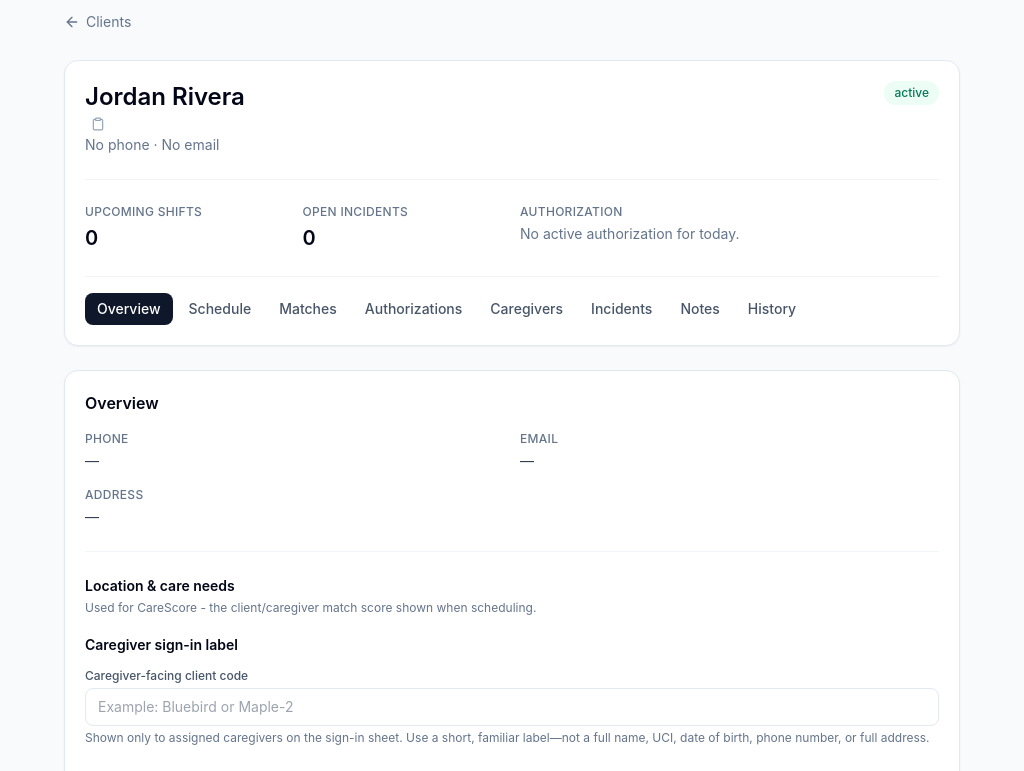
Test: ClientDetailPage › shows an error message on the Authorizations tab when the fetch fails, instead of a false empty state
Expected: the heading "Jordan Rivera" is shown, left=85, top=81, right=245, bottom=113
Click the button "Authorizations" at (414, 309), box left=353, top=293, right=474, bottom=325
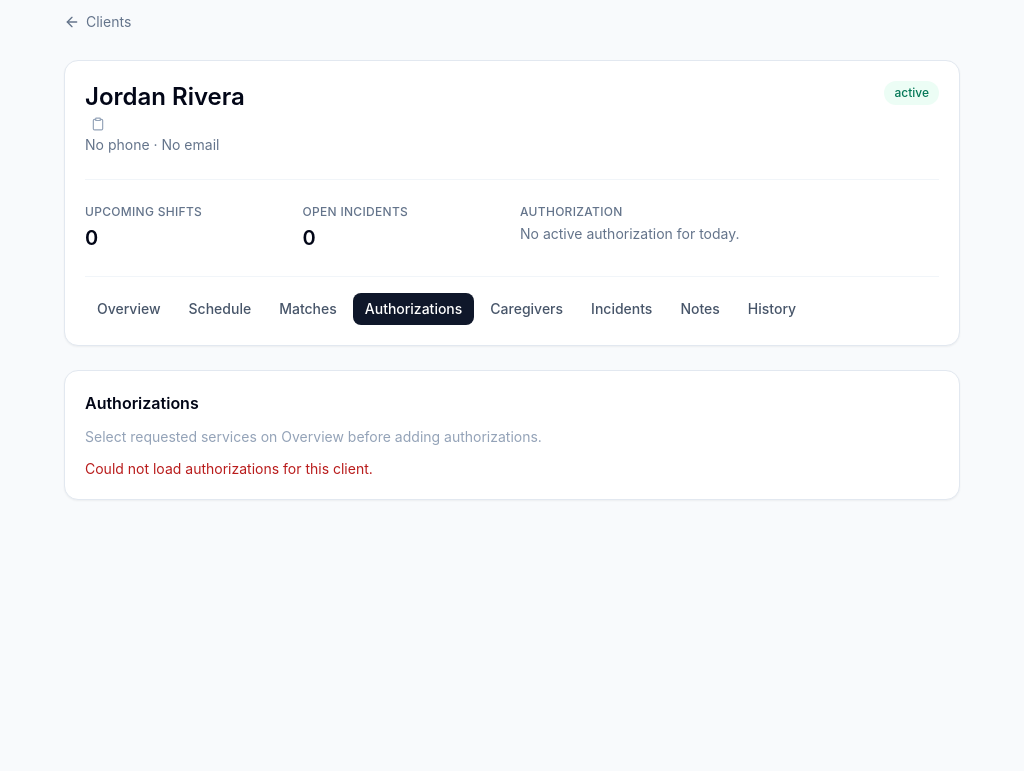
Expected: the text "Could not load authorizations for this client." is shown, left=85, top=460, right=373, bottom=477
